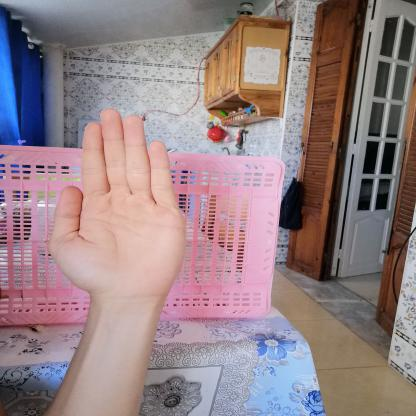SEEN: (35, 101, 194, 308)
